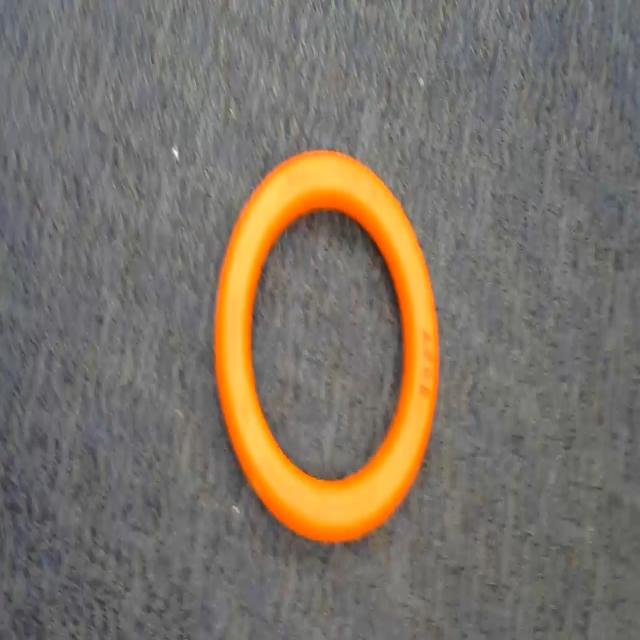note: (211, 140, 443, 549)
